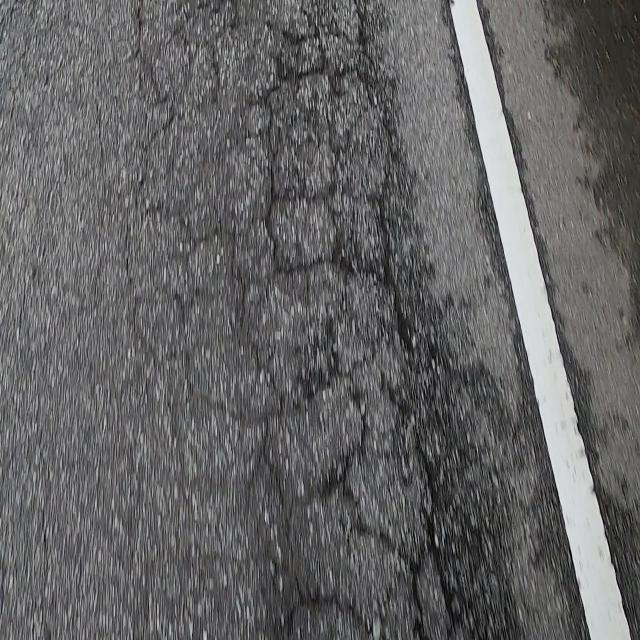Retak-Buaya: (125, 0, 460, 640)
